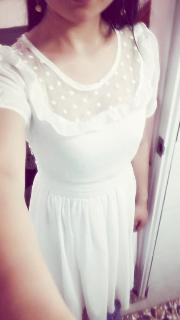short sleeve dress: (0, 16, 160, 320)
